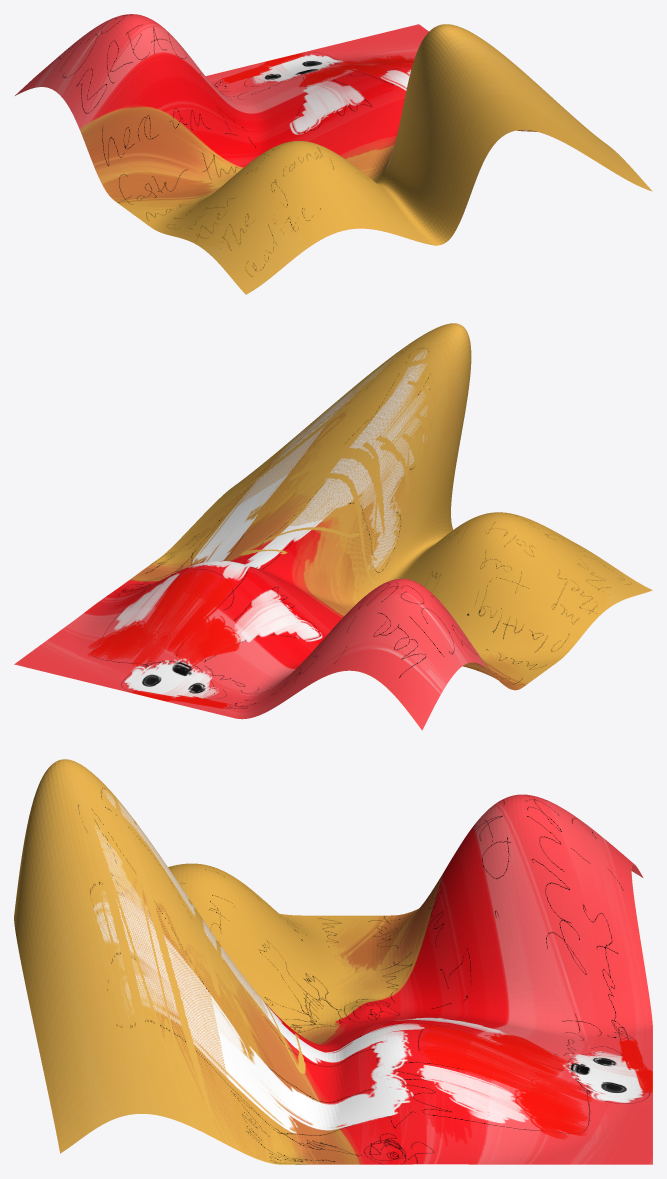
The model's file is wavyleveltest.glb.
3 views of the same model, one above another, from view 1: azimuth 30°, elevation 25°; view 2: azimuth 150°, elevation 25°; view 3: azimuth 270°, elevation 25° (orthographic). The views are drawn at different scales.
Visible parts, largest first — view 1: Plane; view 2: Plane; view 3: Plane.
Part boxes in pixels (x1,y1,x2,y2): Plane: [15, 14, 652, 294]; Plane: [14, 323, 652, 730]; Plane: [14, 759, 652, 1164].
Bounding box in the file's own units: 63.91 × 33.02 × 69.2.
Materials: 1 (1 with a texture image).
